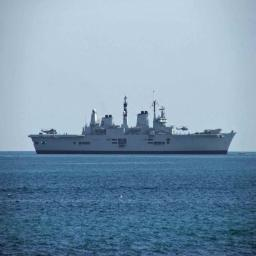Portanaves: (29, 88, 239, 156)
